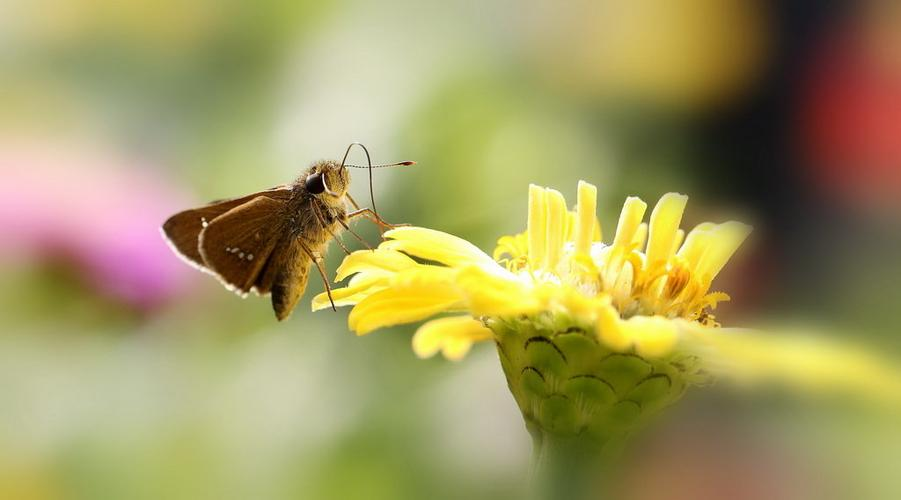Hesperiidae: (149, 132, 422, 325)
